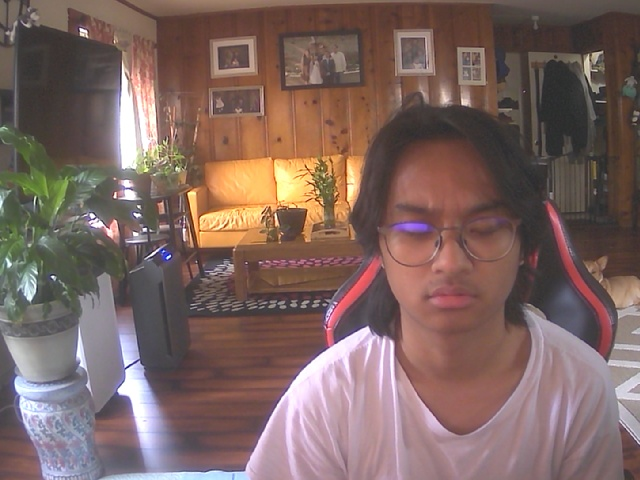anger: (374, 112, 532, 341)
